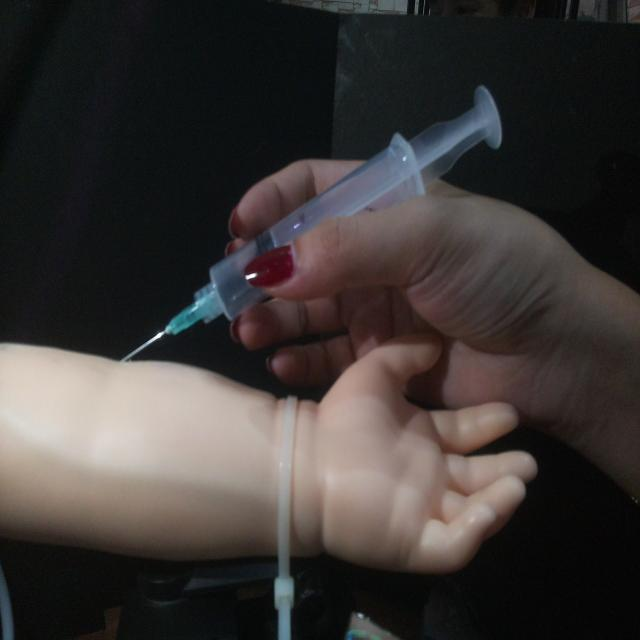30deg: (116, 80, 506, 365)
